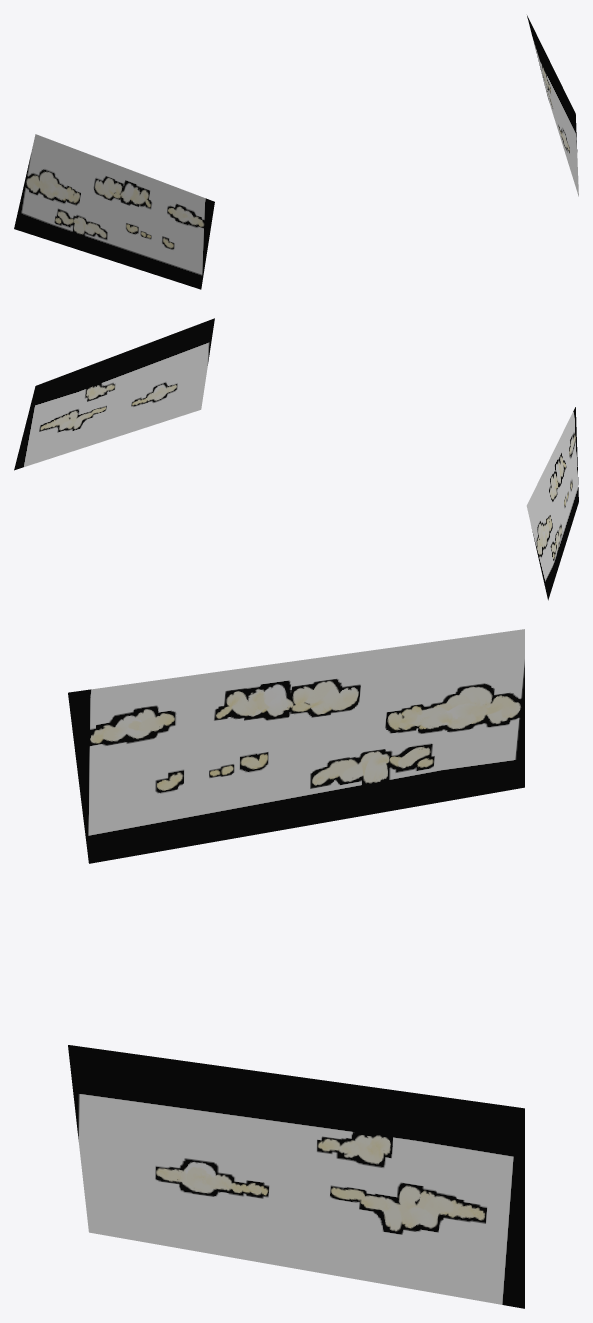
The model's file is skybox_clouds_frontplane.fbx.
3 views of the same model, one above another, from view 1: azimuth 30°, elevation 25°; view 2: azimuth 150°, elevation 25°; view 3: azimuth 270°, elevation 25° (orthographic). The views are drawn at different scales.
Parts seen in each view (by area): view 1: skybox_clouds_frontplane; view 2: skybox_clouds_frontplane; view 3: skybox_clouds_frontplane.
Part boxes in pixels (bbox=[...]): skybox_clouds_frontplane: bbox=[14, 15, 578, 289]; skybox_clouds_frontplane: bbox=[14, 318, 578, 600]; skybox_clouds_frontplane: bbox=[68, 629, 524, 1308].
Bounding box in the file's own units: 1775 × 285 × 658.
1 material, 1 textured.
